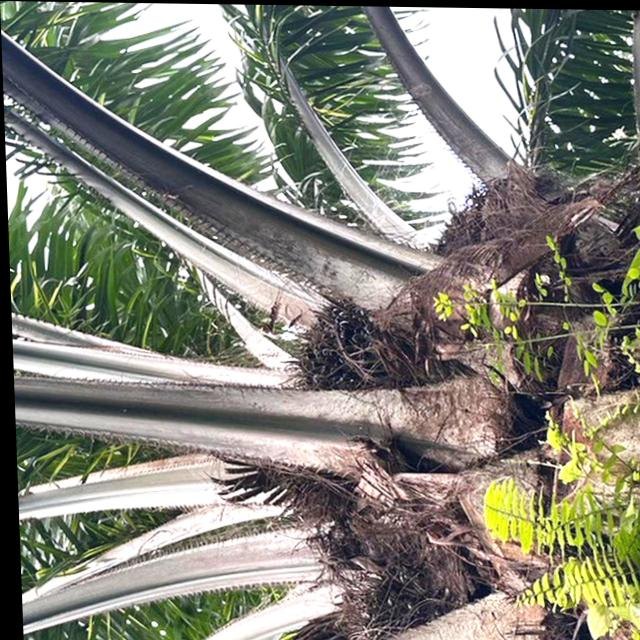unripe: (276, 280, 419, 403)
